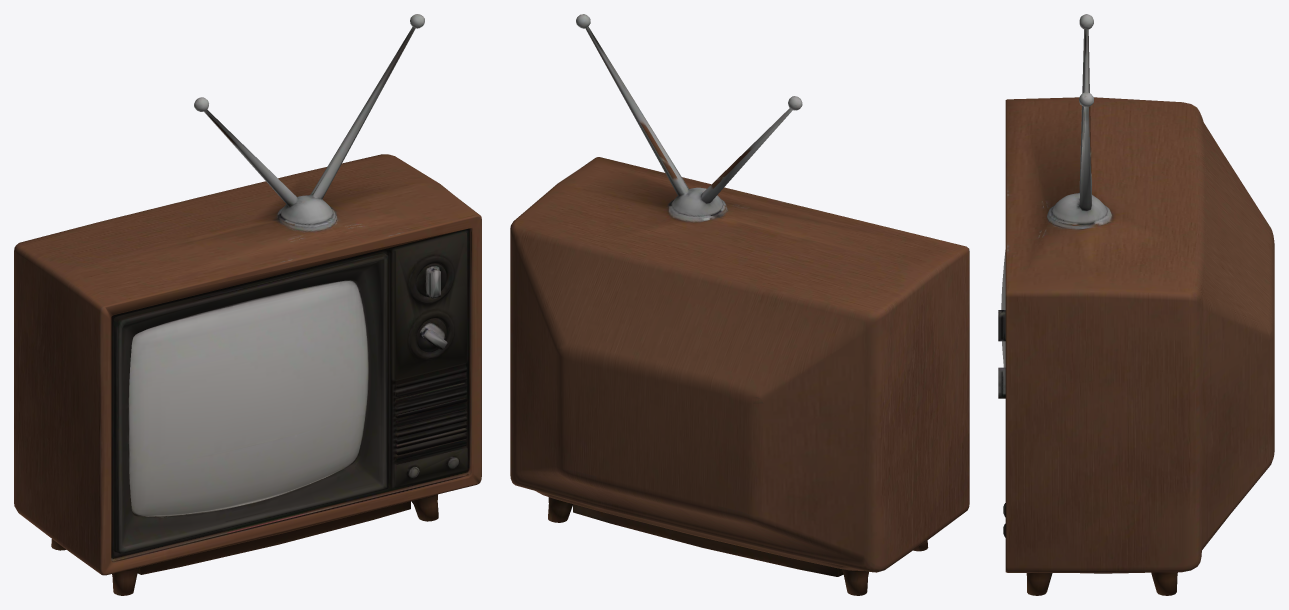
Rendered from crt_television_realistic_style_568f1725_v2.glb.
3 renders of one model, left to right at view 1: azimuth 30°, elevation 25°; view 2: azimuth 150°, elevation 25°; view 3: azimuth 270°, elevation 25°, orthographic. The views are drawn at different scales.
Parts seen in each view (by area): view 1: mesh_input; view 2: mesh_input; view 3: mesh_input.
Part boxes in pixels (bbox=[...]): mesh_input: bbox=[14, 14, 481, 595]; mesh_input: bbox=[510, 14, 969, 595]; mesh_input: bbox=[998, 14, 1274, 595].
Bounding box in the file's own units: 1.58 × 1.9 × 0.9434.
1 material, 1 textured.
